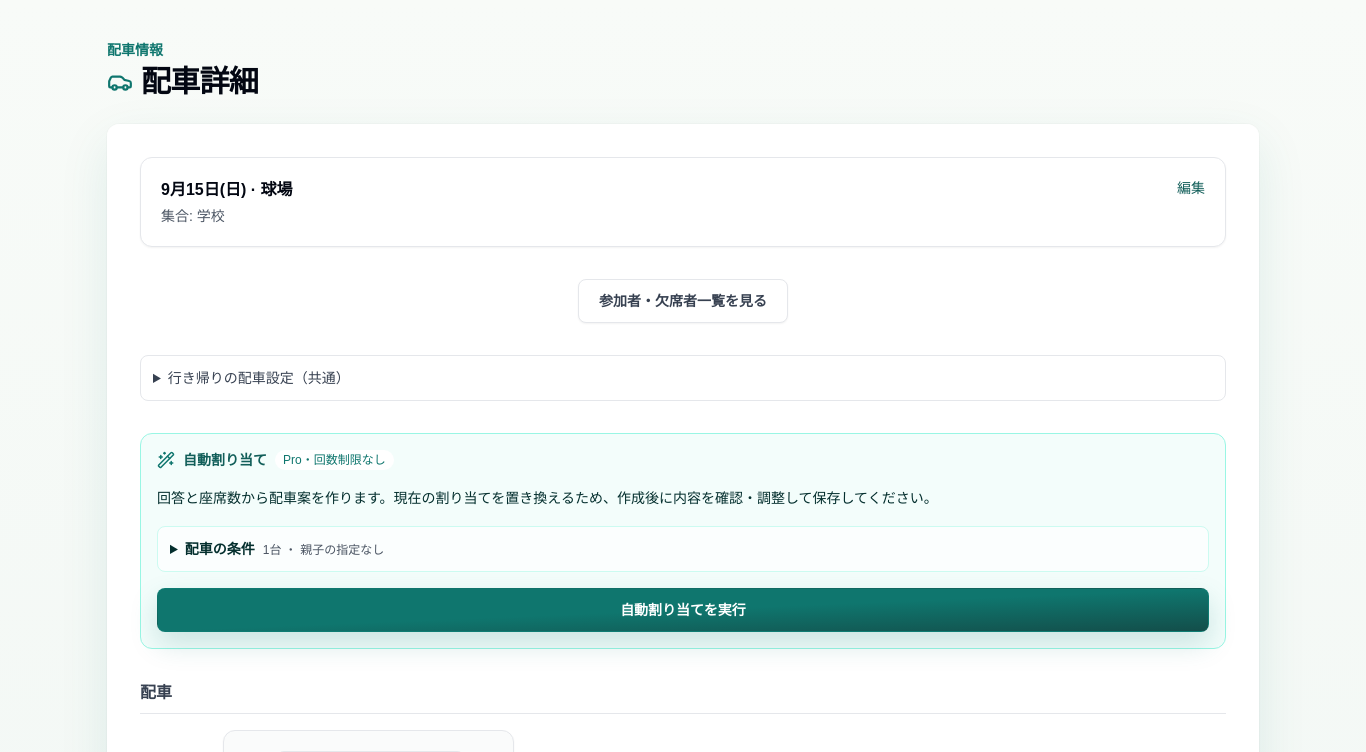
Test: 自動割り当て失敗でも既存の手動割り当てと入力を保持する
The image size is (1366, 752).
Replace the text in the field named "行き先" with "保持する行き先". click: coordinates (683, 202)
box: [140,157,1226,247]
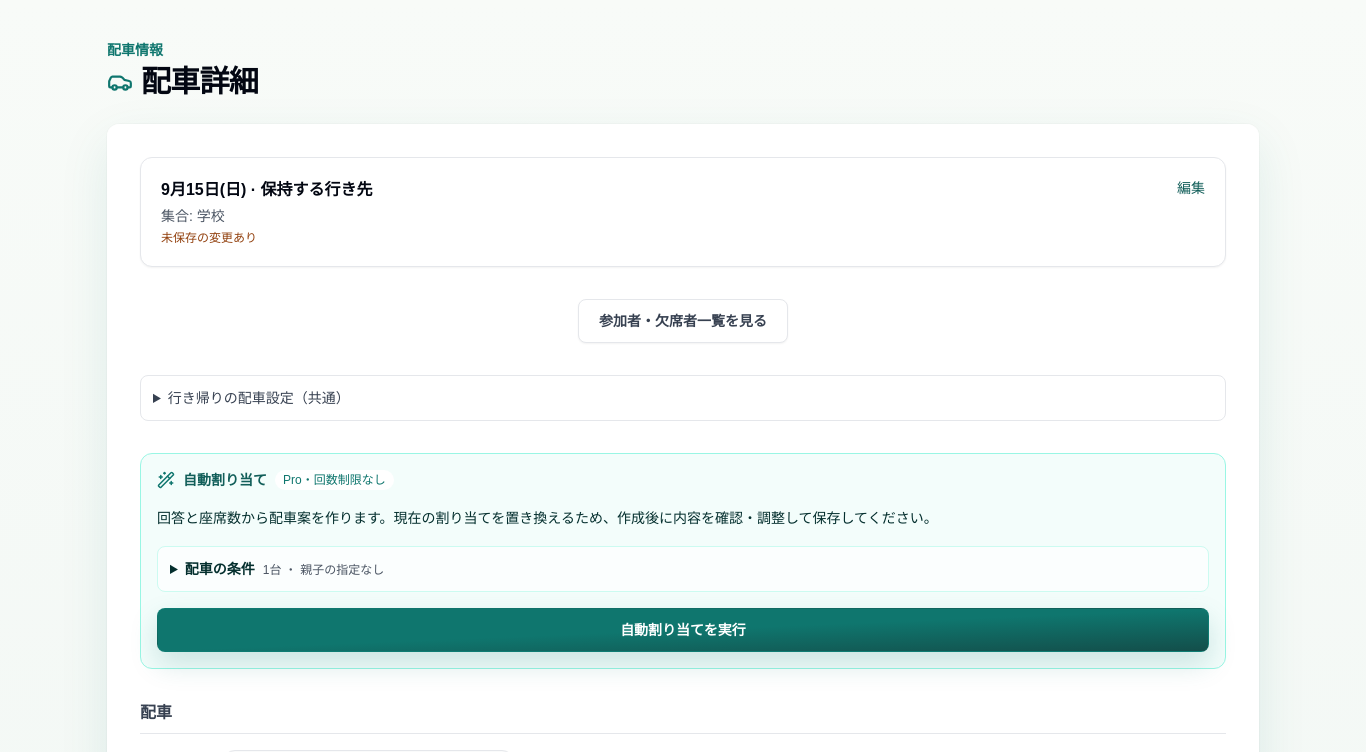
Click the button "自動割り当てを実行". click: coordinates (683, 630)
box: [157,608,1209,652]
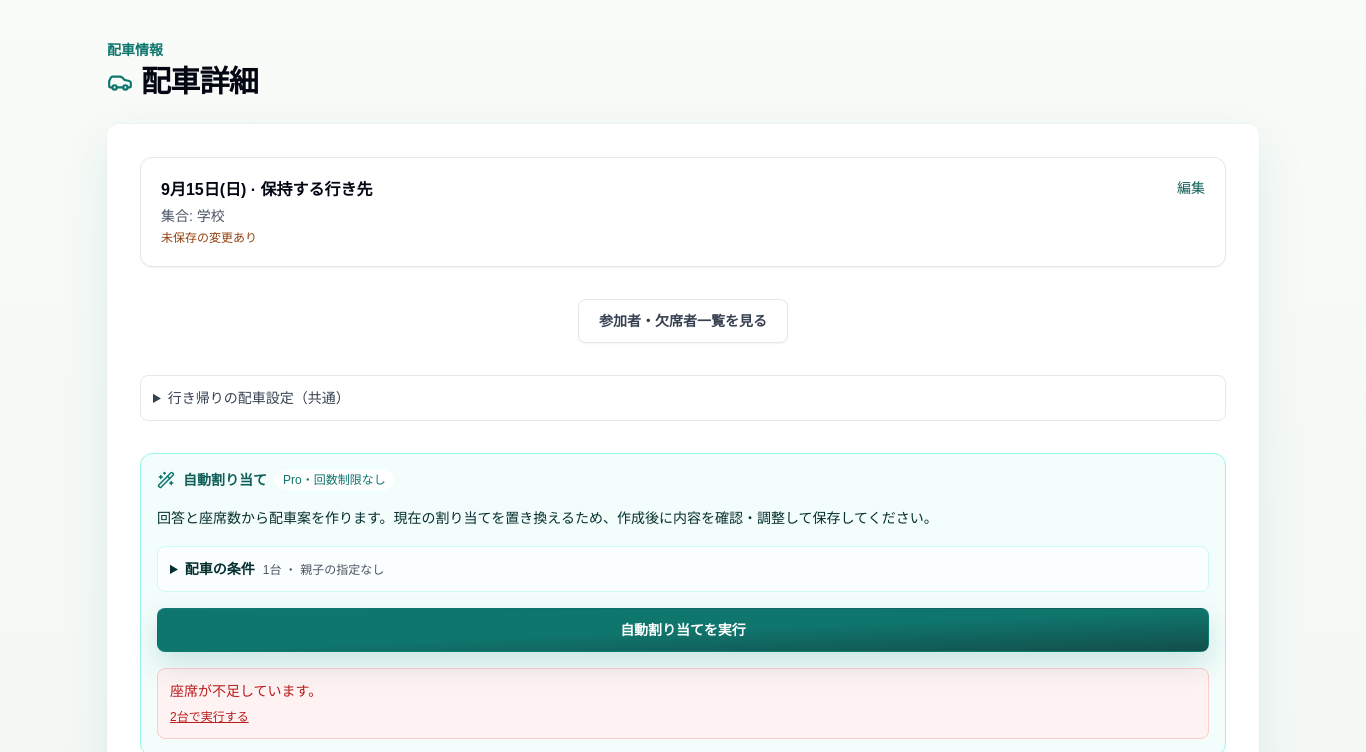
Expected: the element labelled "行き先" holds "保持する行き先", [140,157,1226,267]
Expected: the text "座席が不足しています。" is shown, [170,683,322,699]
Expected: the button "2台で実行する" is enabled, [170,709,249,725]
